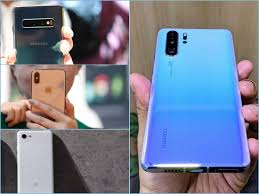huawei: (137, 23, 249, 171)
